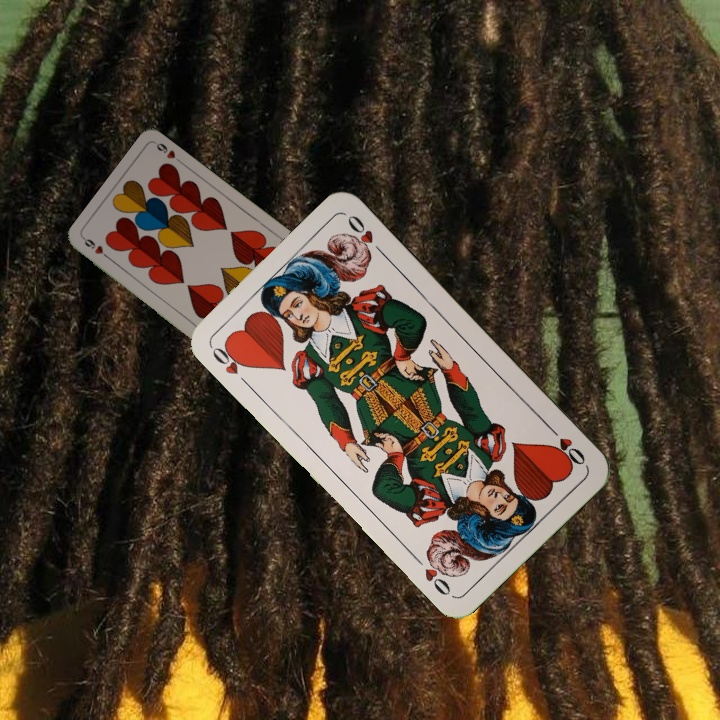H9: (80, 234, 115, 264)
HO: (206, 338, 252, 389), (543, 421, 588, 468)
